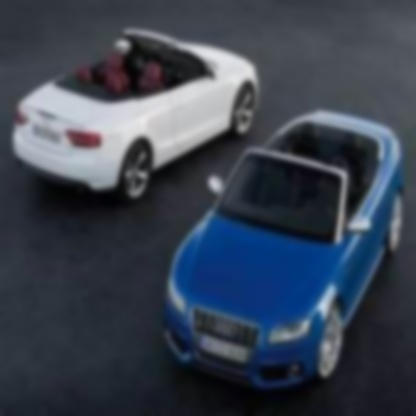Vehicle: (162, 121, 409, 404)
